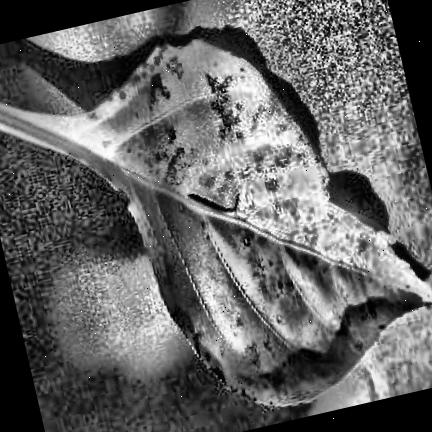leaf: (0, 38, 432, 404)
